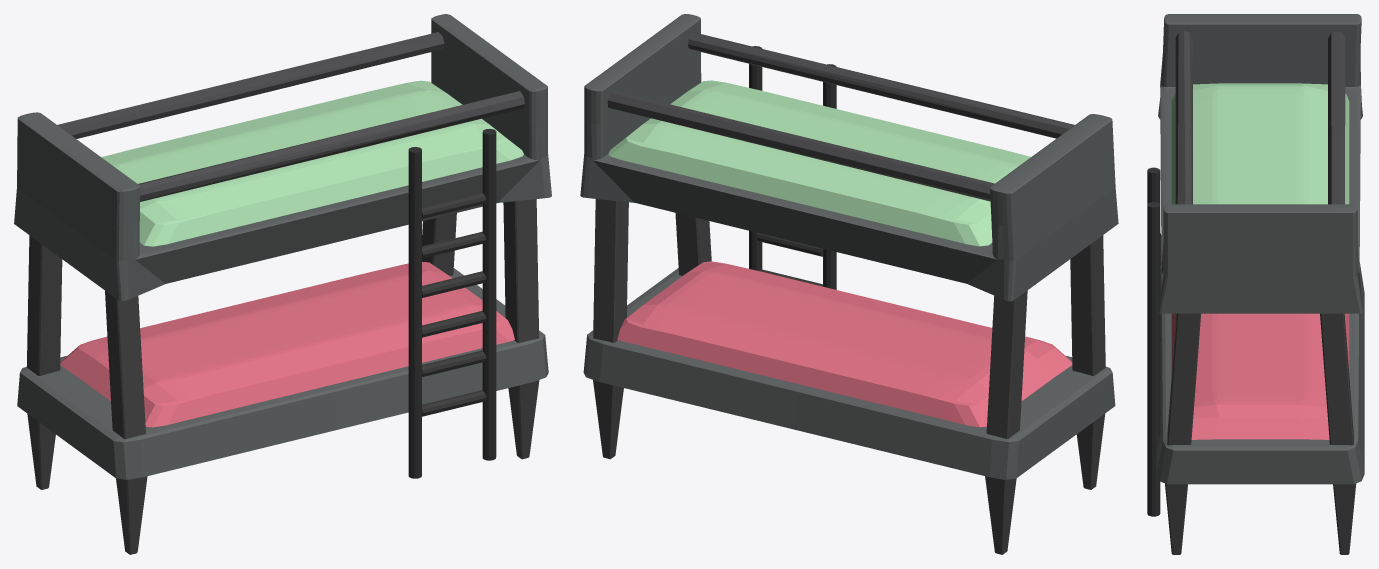
File: twoStoryBedblend.glb
3 views of the same model, side by side, from view 1: azimuth 30°, elevation 25°; view 2: azimuth 150°, elevation 25°; view 3: azimuth 270°, elevation 25° (orthographic). The views are drawn at different scales.
Parts seen in each view (by area): view 1: Cube.002, Cube.003, Cube.004, Cube, Cube.001, Cylinder, Cylinder.001, Cylinder.002; view 2: Cube.002, Cube.003, Cube.004, Cube, Cube.001, Cylinder, Cylinder.001, Cylinder.002; view 3: Cube.002, Cube.004, Cube.003, Cube, Cube.001, Cylinder, Cylinder.001, Cylinder.002.
Part boxes in pixels (left/top/right/bottom): Cube.002: left=14, top=14, right=551, bottom=301; Cube.003: left=60, top=261, right=514, bottom=427; Cube.004: left=101, top=80, right=523, bottom=246; Cube: left=17, top=268, right=548, bottom=479; Cube.001: left=27, top=199, right=539, bottom=554; Cylinder: left=57, top=32, right=524, bottom=201; Cylinder.001: left=408, top=128, right=496, bottom=478; Cylinder.002: left=422, top=192, right=486, bottom=416; Cube.002: left=580, top=14, right=1118, bottom=301; Cube.003: left=617, top=261, right=1072, bottom=427; Cube.004: left=608, top=80, right=1030, bottom=246; Cube: left=583, top=268, right=1115, bottom=479; Cube.001: left=593, top=199, right=1105, bottom=554; Cylinder: left=607, top=32, right=1074, bottom=201; Cylinder.001: left=749, top=46, right=836, bottom=289; Cylinder.002: left=756, top=233, right=822, bottom=286; Cube.002: left=1158, top=14, right=1362, bottom=313; Cube.004: left=1171, top=83, right=1349, bottom=204; Cube.003: left=1171, top=313, right=1349, bottom=439; Cube: left=1156, top=262, right=1364, bottom=484; Cube.001: left=1165, top=313, right=1356, bottom=554; Cylinder: left=1175, top=31, right=1345, bottom=204; Cylinder.001: left=1147, top=167, right=1160, bottom=516; Cylinder.002: left=1160, top=233, right=1161, bottom=416.
Bounding box in the file's own units: 7.97 × 6.52 × 3.66.
